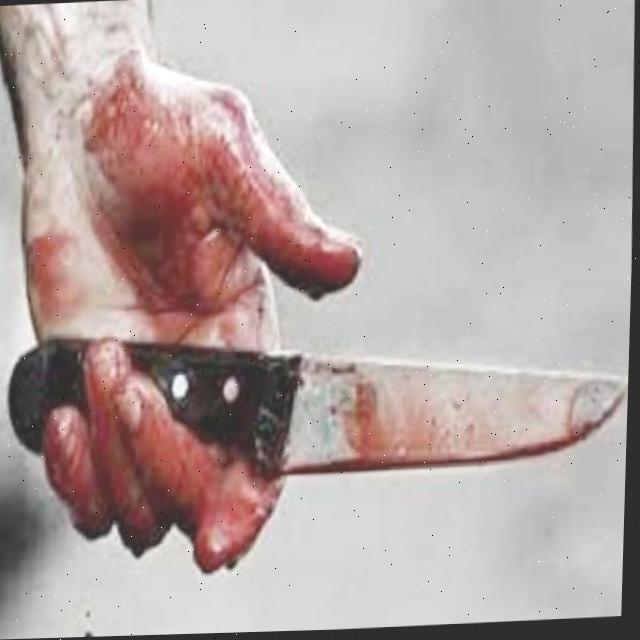knife: (4, 314, 632, 489)
